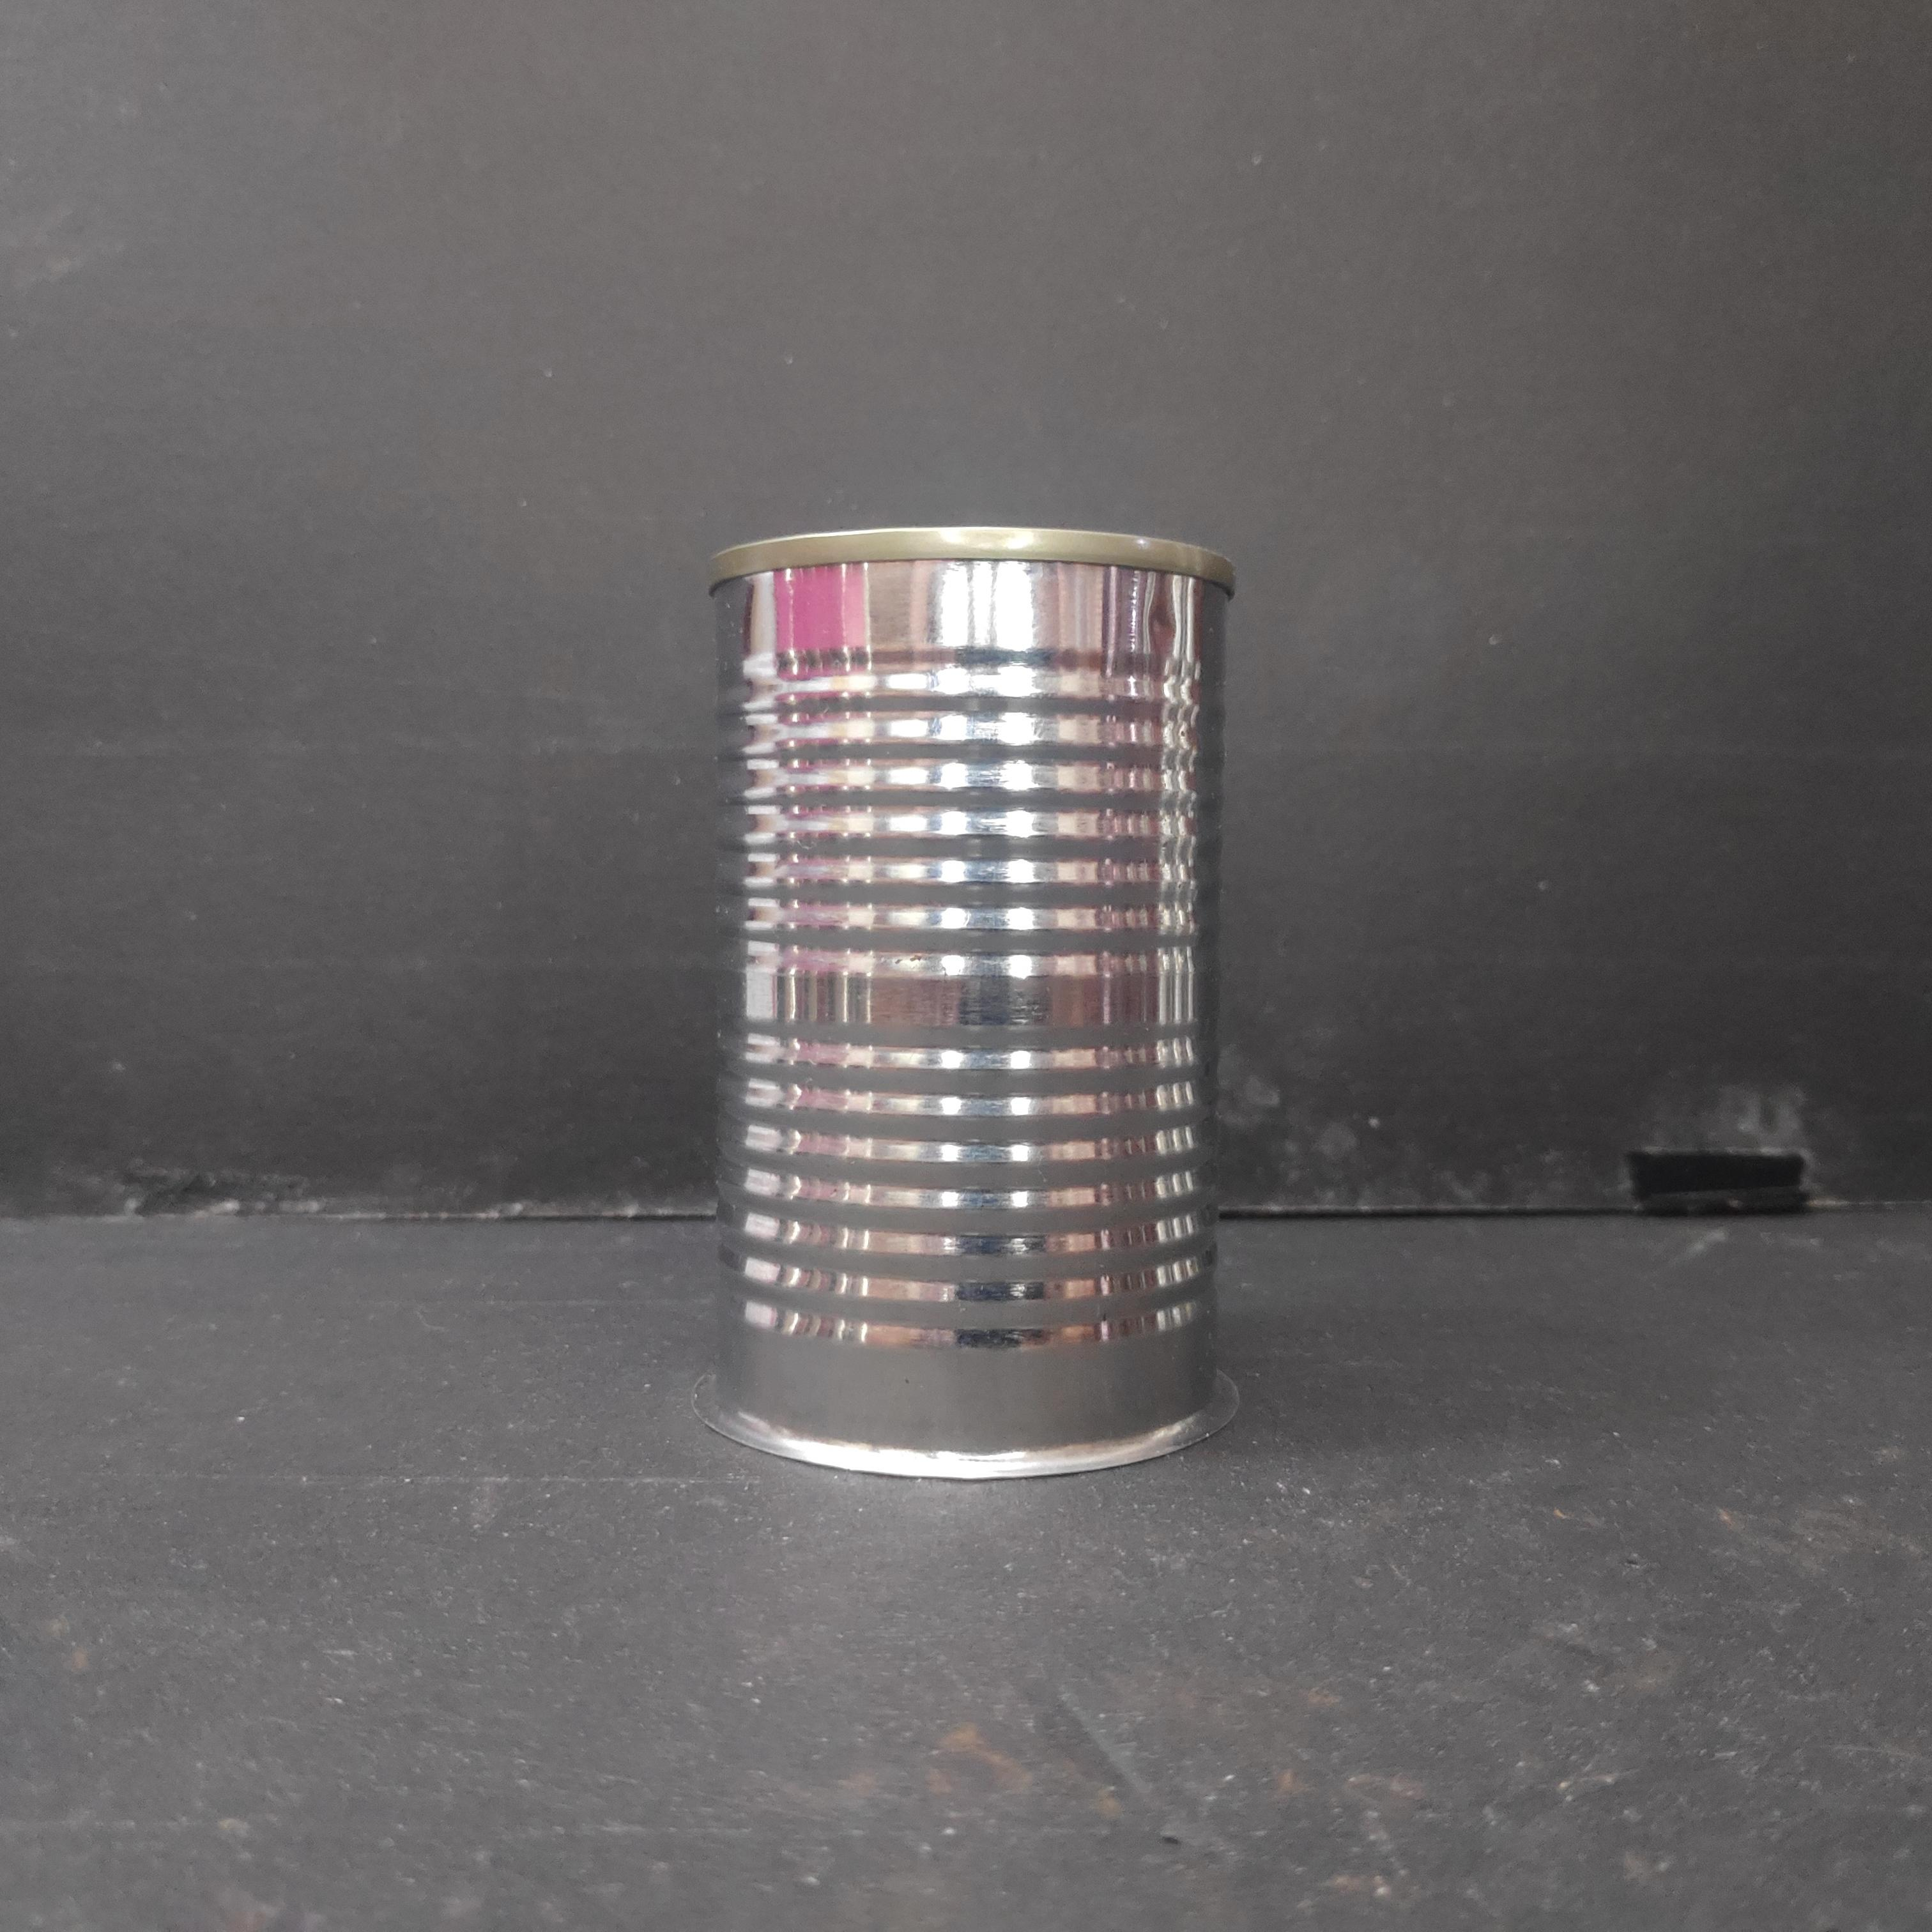No defect: (690, 525, 1244, 1483)
